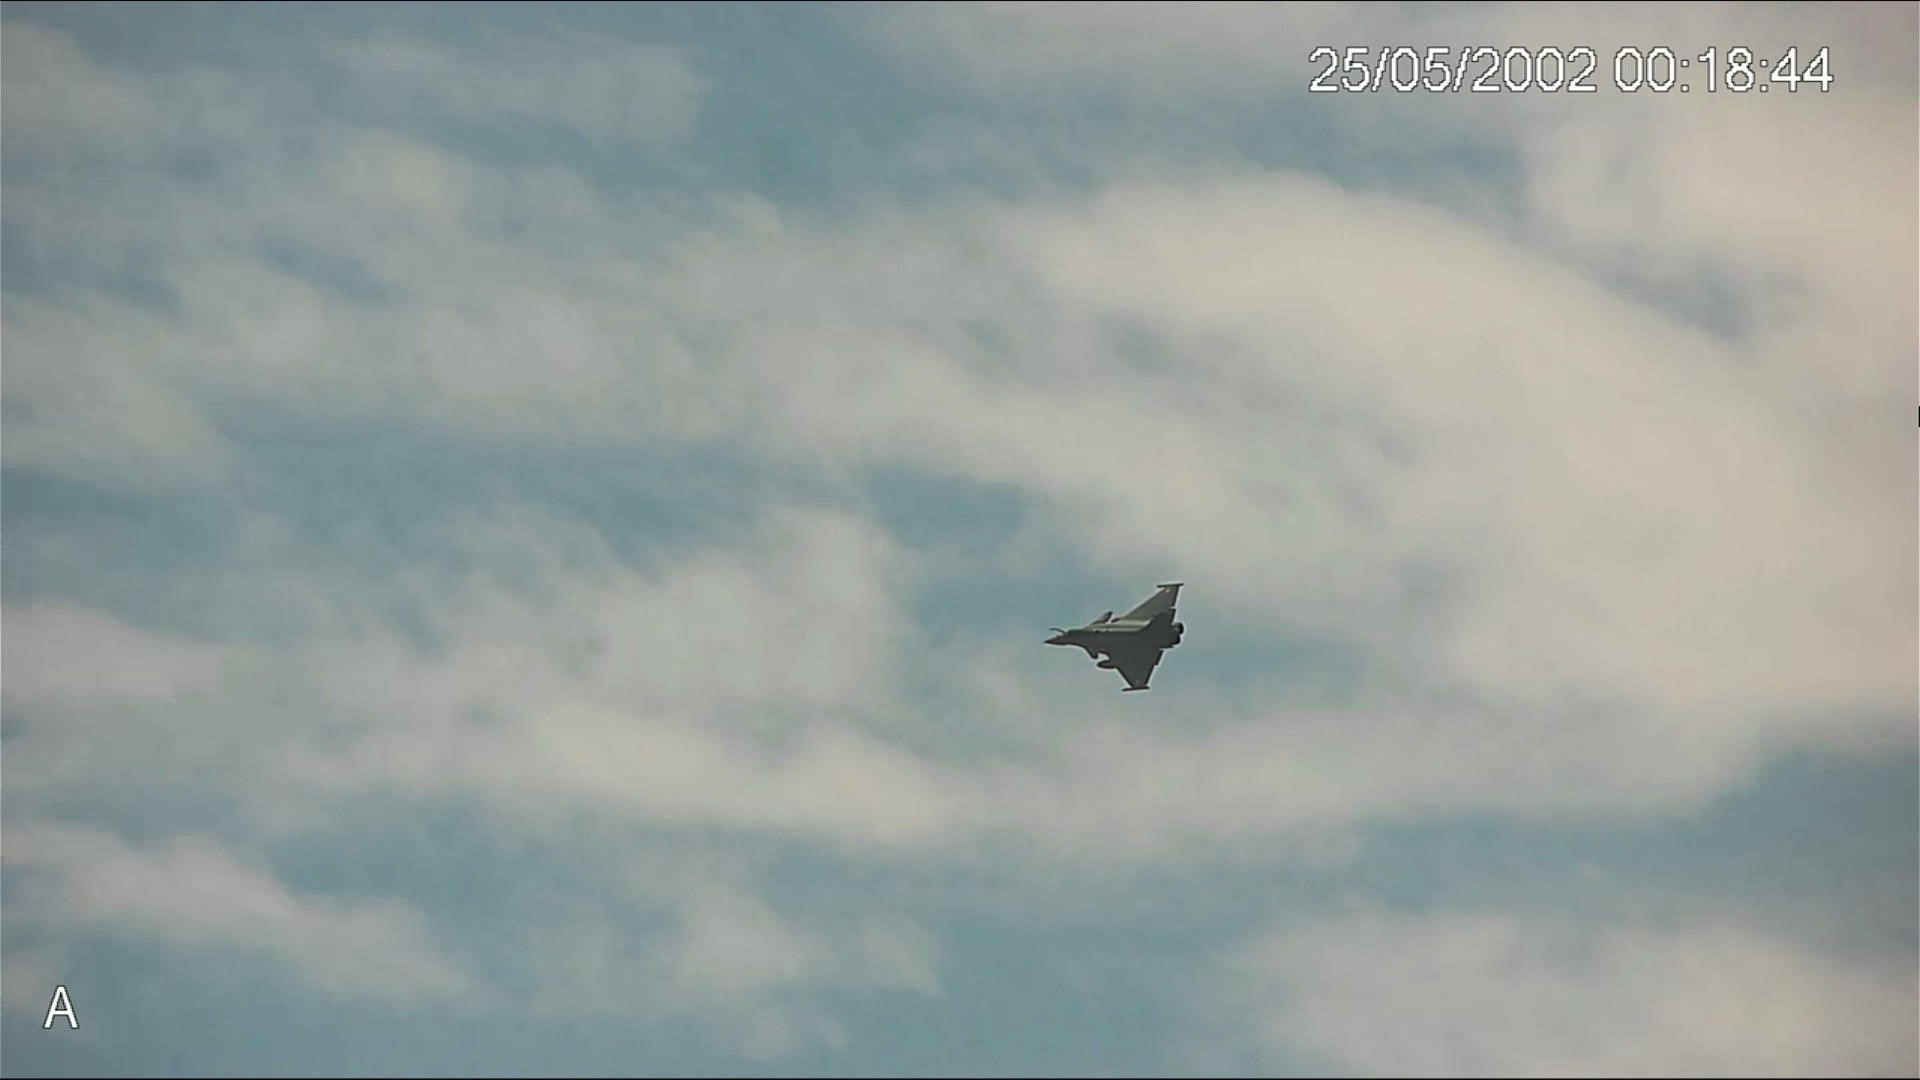SU_30: (1040, 584, 1189, 692)
